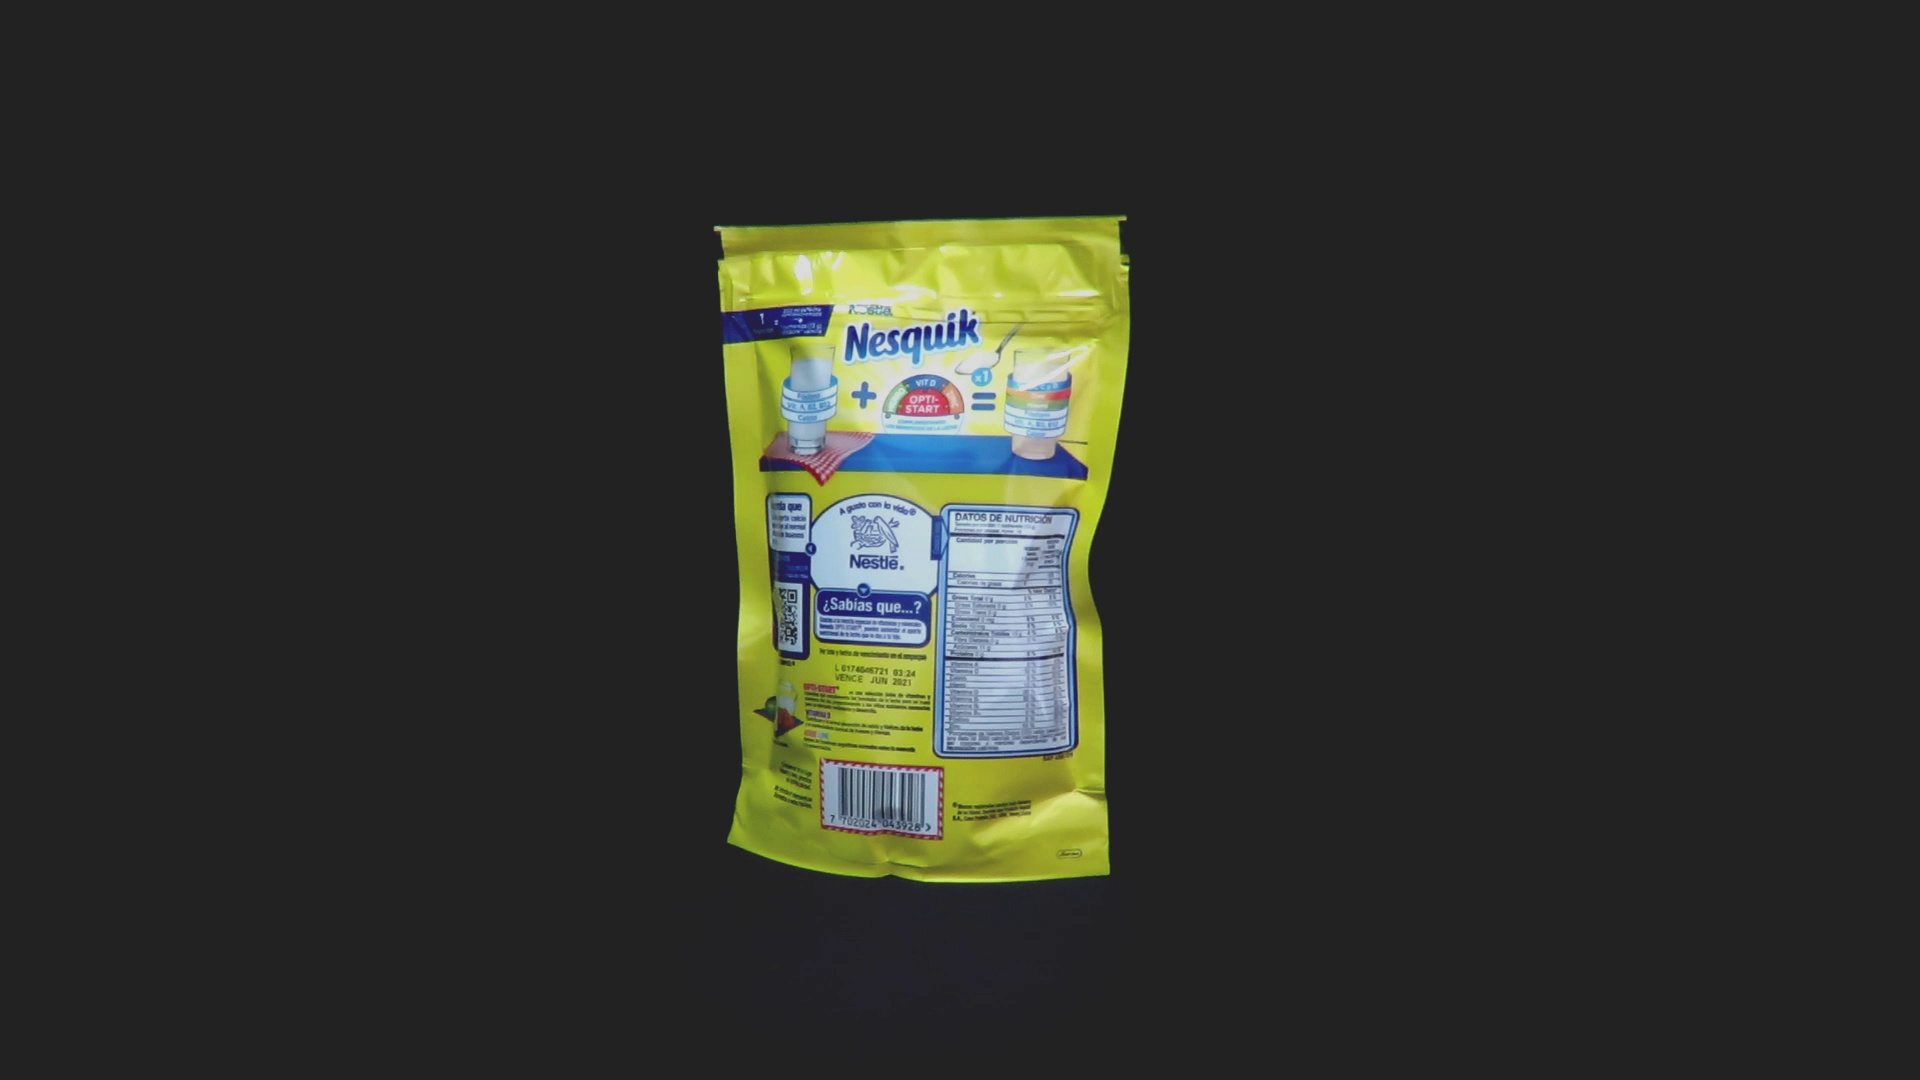COL0170306DYP20000: (708, 210, 1135, 889)
